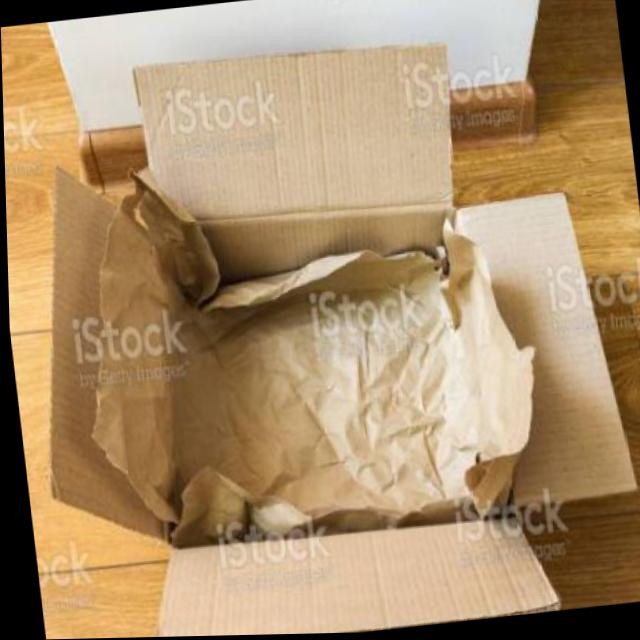box: (0, 4, 640, 640)
